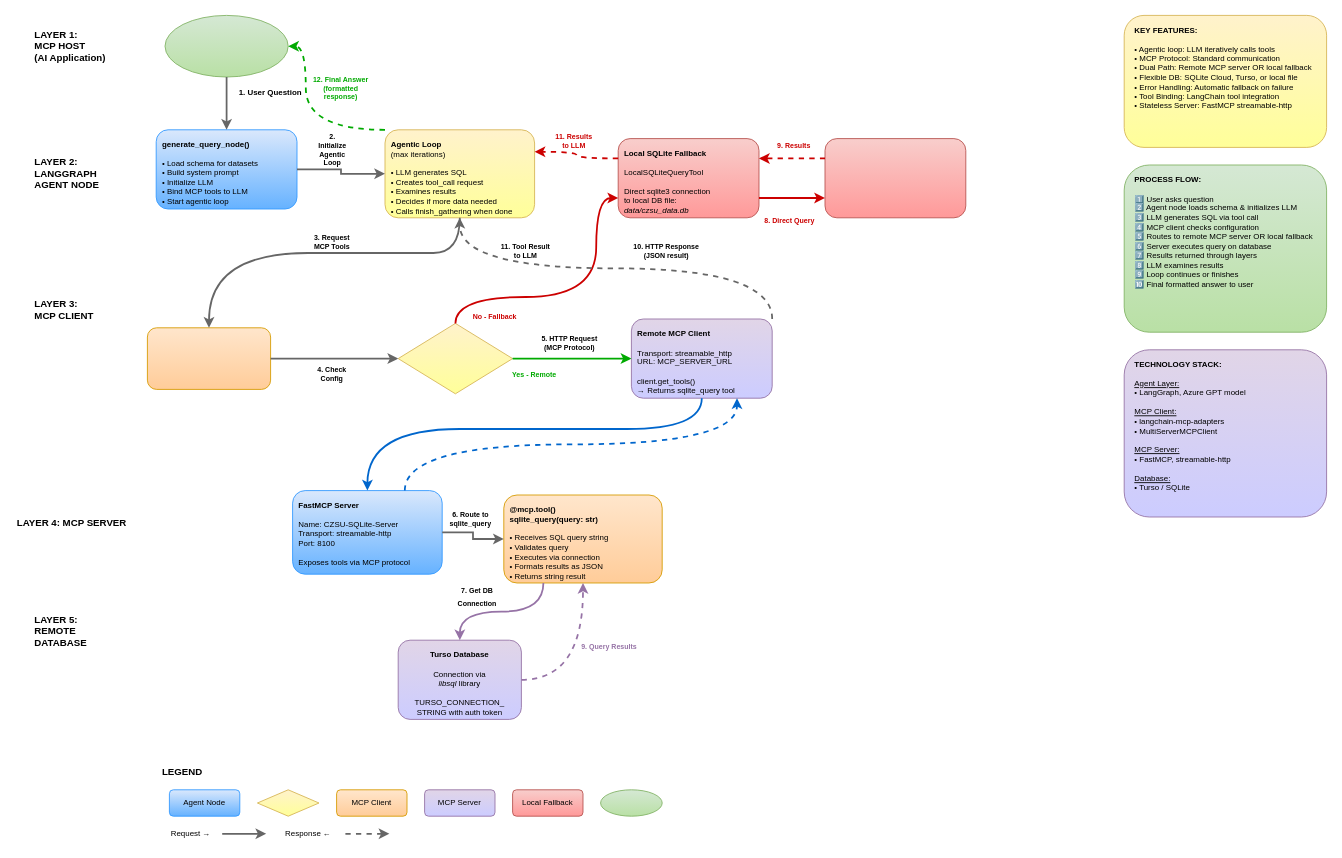
Some shapes in this 1342 by 858 pixel diagram are drawn without their labels. Here are the shapes that lost their labels. From the top down, the centre of each, then its label:
At pixel 226 46: "User Prompt Natural language question (Czech/English)".
At pixel 895 178: "Local SQLite Database data/czsu_data.db Direct file access via SQLite".
At pixel 209 358: "get_sqlite_tools() Initialize MCP Client MultiServerMCPClient".
At pixel 455 358: "MCP Server URL Configured?".
At pixel 288 802: "Decision".
At pixel 631 802: "Start/End".
